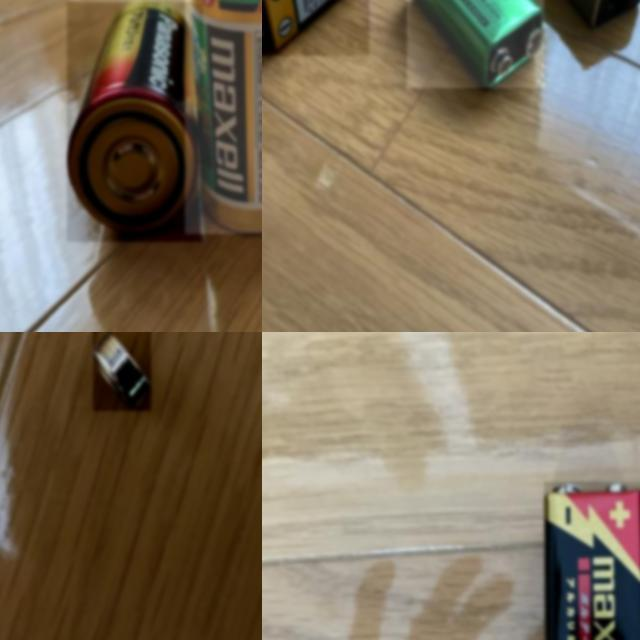9V: (544, 481, 640, 640), (407, 0, 544, 88), (262, 0, 369, 56)
